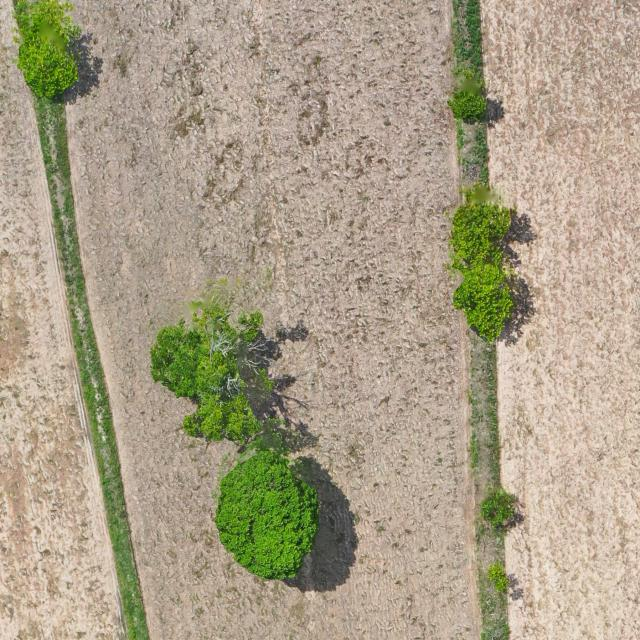Tree: (150, 304, 266, 441), (213, 449, 321, 582), (13, 0, 81, 103), (452, 262, 517, 340), (449, 202, 513, 264), (446, 74, 488, 124)
